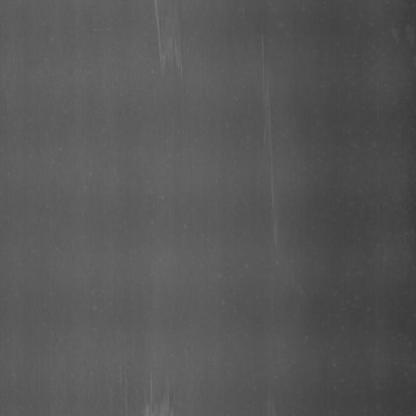silk_spot: (252, 60, 289, 272), (144, 12, 204, 78)
